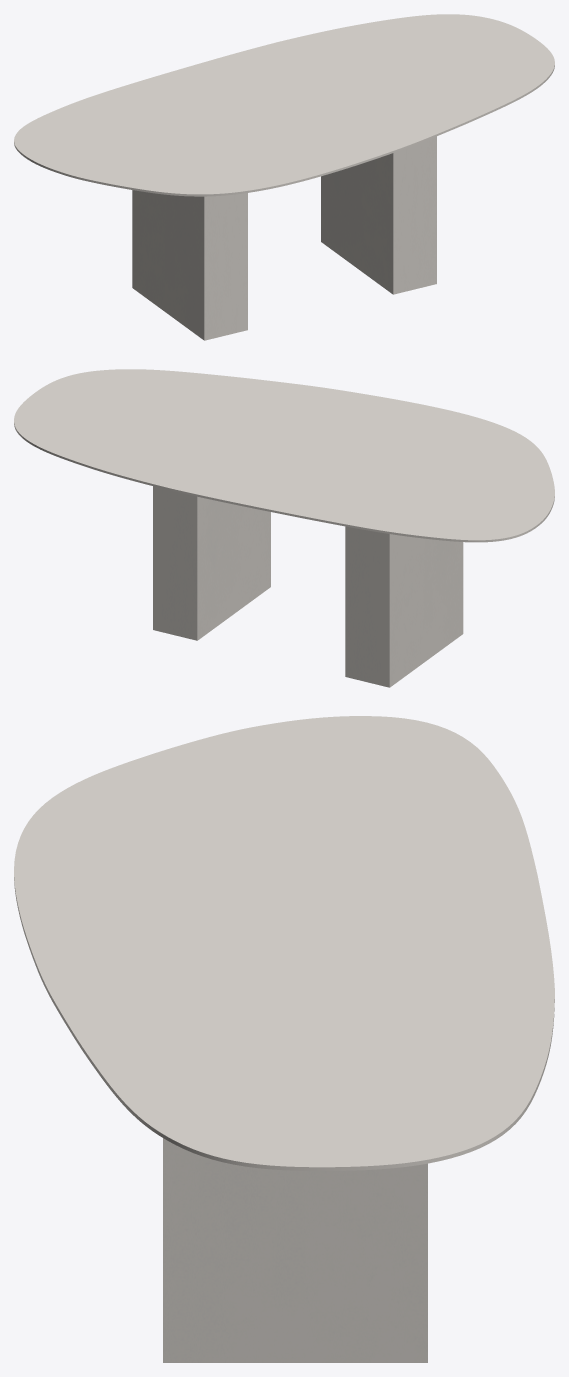
Rendered from pearlwhite_leaf2_facet_ridge.glb.
The picture shows the model from 3 angles, top to bottom: view 1: azimuth 30°, elevation 25°; view 2: azimuth 150°, elevation 25°; view 3: azimuth 270°, elevation 25°; orthographic projection. The views are drawn at different scales.
Parts seen in each view (by area): view 1: facet_leaf2, ridge; view 2: facet_leaf2, ridge; view 3: facet_leaf2, ridge.
Part boxes in pixels (left/top/right/bottom): facet_leaf2: left=14, top=14, right=554, bottom=196; ridge: left=132, top=136, right=436, bottom=340; facet_leaf2: left=14, top=369, right=554, bottom=542; ridge: left=153, top=486, right=463, bottom=687; facet_leaf2: left=14, top=716, right=554, bottom=1170; ridge: left=163, top=1138, right=427, bottom=1362.
Size of the model in its own units: 7.5 by 2.52 by 3.8.
Materials: 1 (1 with a texture image).
